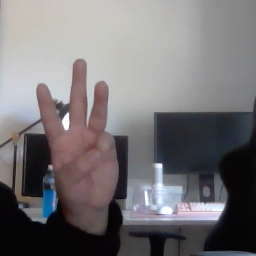W: (34, 55, 121, 205)
